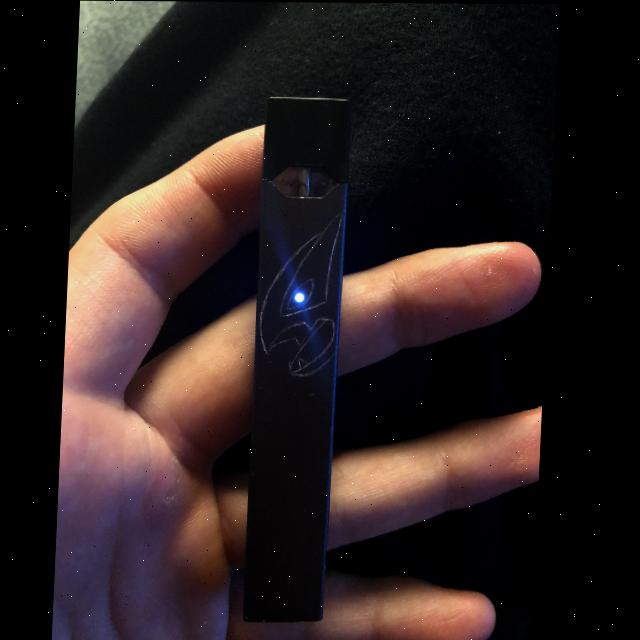vape: (245, 95, 356, 623)
